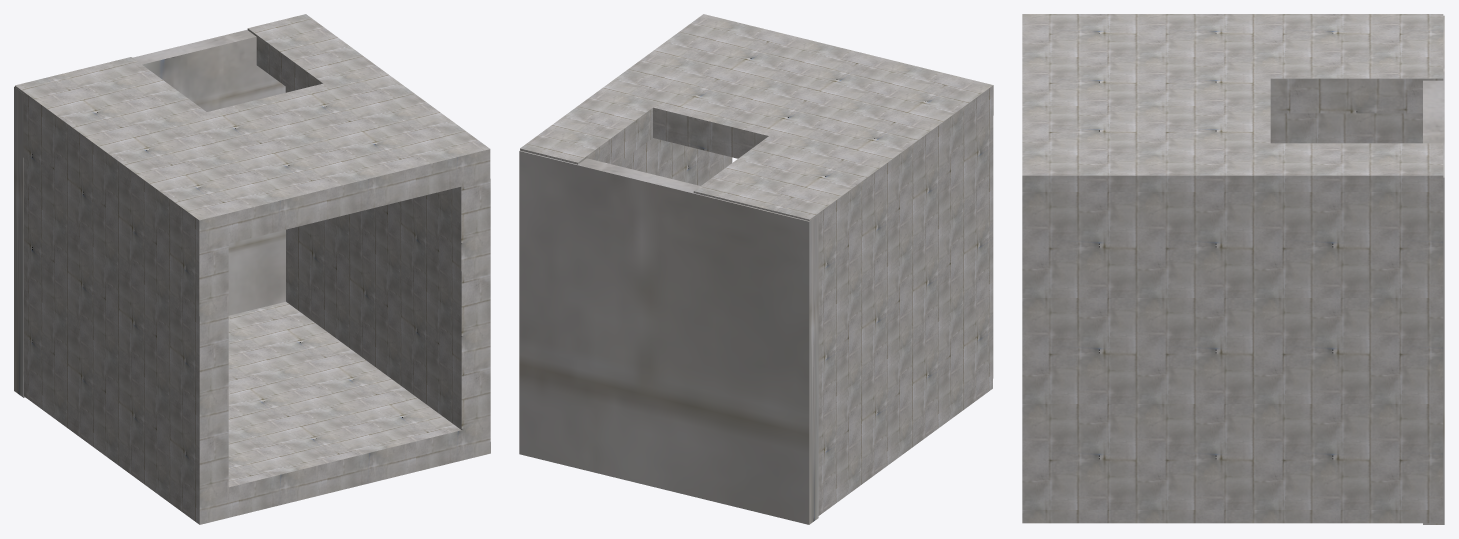
File: building.glb
The picture shows the model from 3 angles, left to right: view 1: azimuth 30°, elevation 25°; view 2: azimuth 150°, elevation 25°; view 3: azimuth 270°, elevation 25°; orthographic projection. The views are drawn at different scales.
Visible parts, largest first — view 1: Plane.002, Cube; view 2: Plane.002, Cube; view 3: Plane.002, Cube.
Boxes of the visible parts, box(x1,y1,x2,y2) form: Plane.002: box(15, 14, 490, 524); Cube: box(14, 29, 285, 397); Plane.002: box(520, 14, 993, 515); Cube: box(519, 150, 818, 524); Plane.002: box(1022, 14, 1443, 523); Cube: box(1423, 15, 1444, 524).
Size of the model in its own units: 8.05 by 8.09 by 8.86.
Materials: 1 (1 with a texture image).
